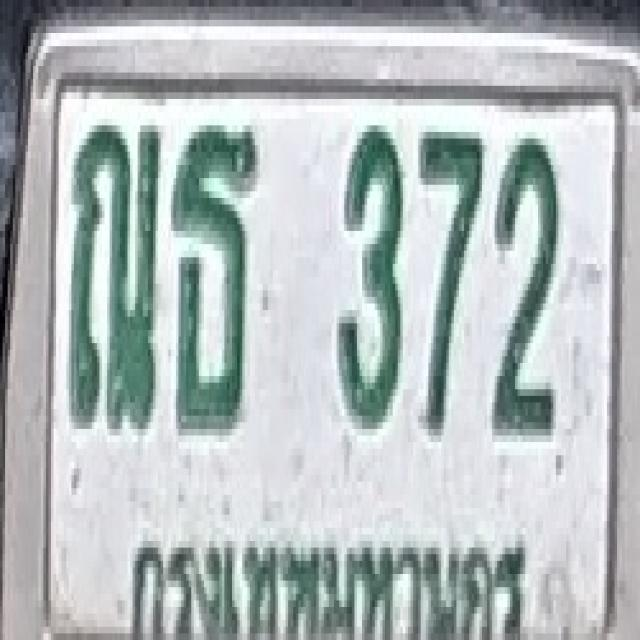-: (68, 119, 160, 429), (171, 122, 260, 432)
2: (491, 132, 560, 435)
3: (336, 122, 403, 426)
7: (418, 126, 482, 436)
BKK: (124, 510, 542, 640)
